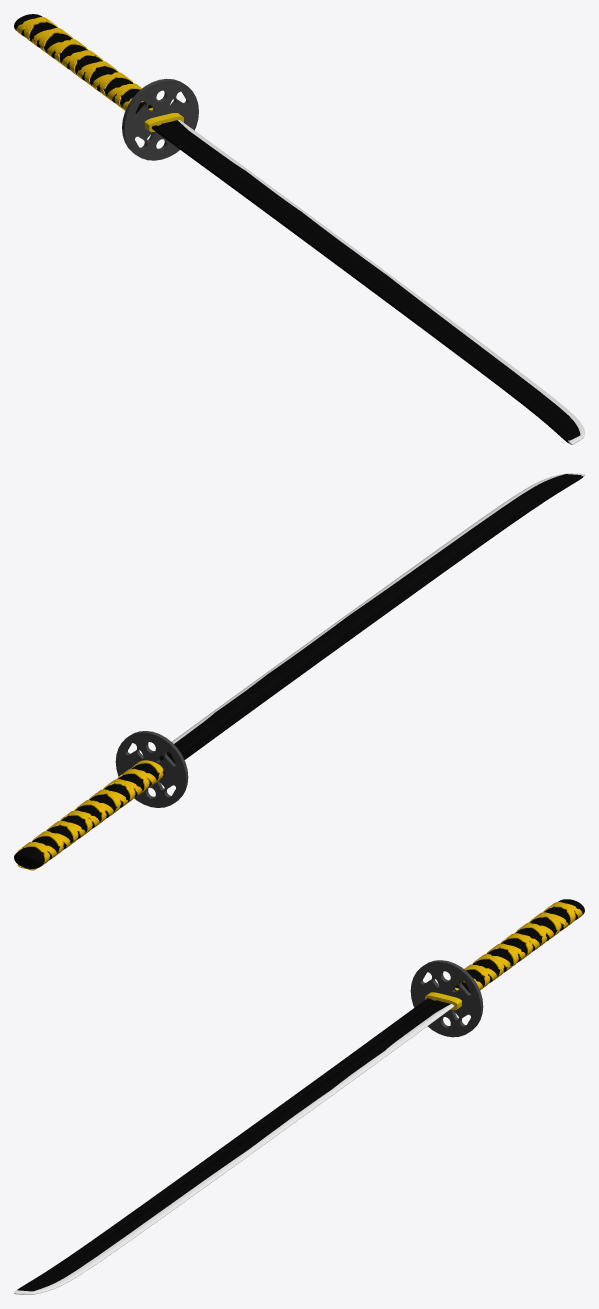
File: Sword2.fbx
3 views of the same model, one above another, from view 1: azimuth 30°, elevation 25°; view 2: azimuth 150°, elevation 25°; view 3: azimuth 330°, elevation 25° (orthographic). The views are drawn at different scales.
Visible parts, largest first — view 1: Hoja, Guarda, Mango, Cinta2, Cinta; view 2: Hoja, Guarda, Mango, Cinta, Cinta2; view 3: Hoja, Guarda, Mango, Cinta, Cinta2.
Part boxes in pixels (<box>): Hoja: <box>151,120,584,444</box>; Guarda: <box>122,78,198,160</box>; Mango: <box>14,14,151,114</box>; Cinta2: <box>16,18,158,110</box>; Cinta: <box>24,17,143,114</box>; Hoja: <box>159,473,584,774</box>; Guarda: <box>115,731,188,807</box>; Mango: <box>14,763,164,868</box>; Cinta: <box>17,760,156,870</box>; Cinta2: <box>17,761,163,868</box>; Hoja: <box>14,998,454,1294</box>; Guarda: <box>410,960,483,1037</box>; Mango: <box>455,899,584,993</box>; Cinta: <box>449,903,582,990</box>; Cinta2: <box>462,902,575,993</box>.
Size of the model in its own units: 561 by 561 by 7425.
